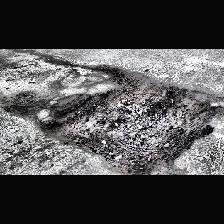pothole: (40, 66, 216, 174)
